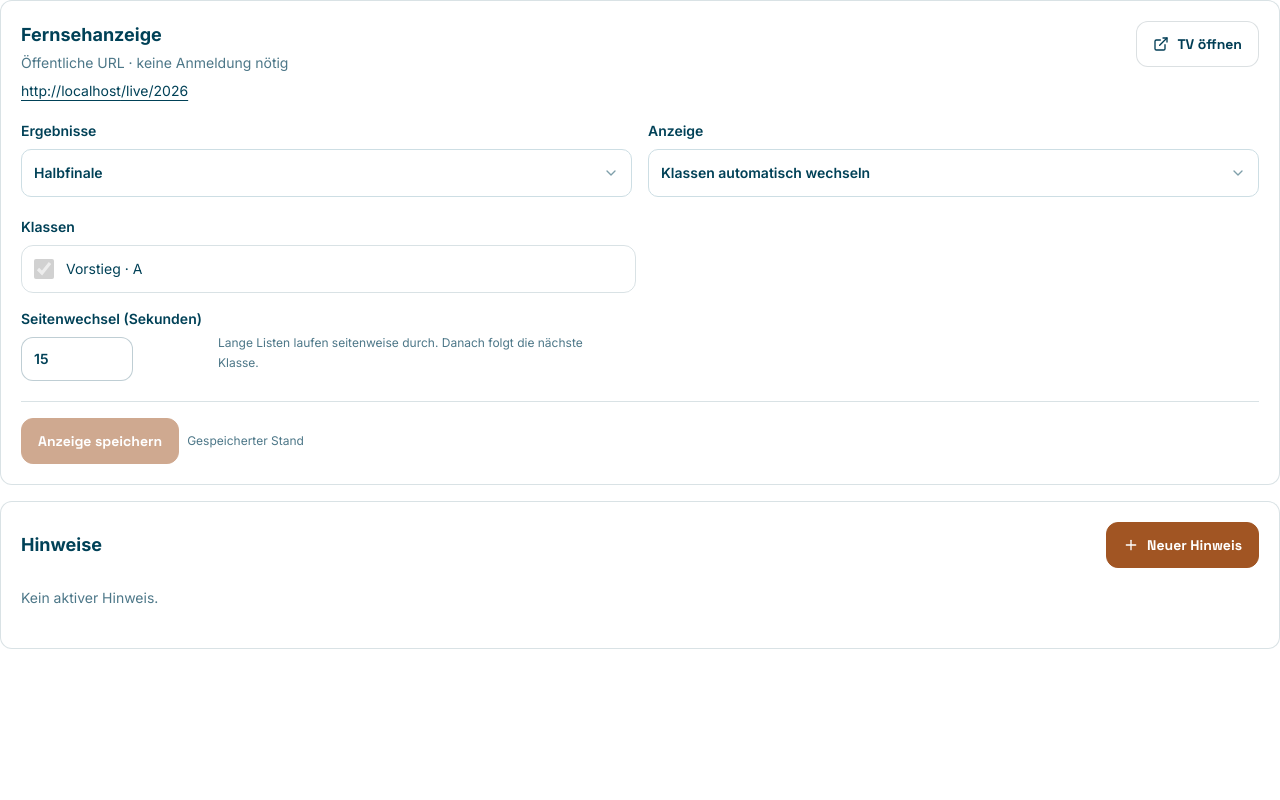
it: display and notices › uses a ten-minute expiry, removes fullscreen when TV is unticked and protects an unsaved notice
Later steps or results of the test are not shown.
Click the button "Neuer Hinweis" at {"x": 1183, "y": 545}, box [1106,522,1259,568]
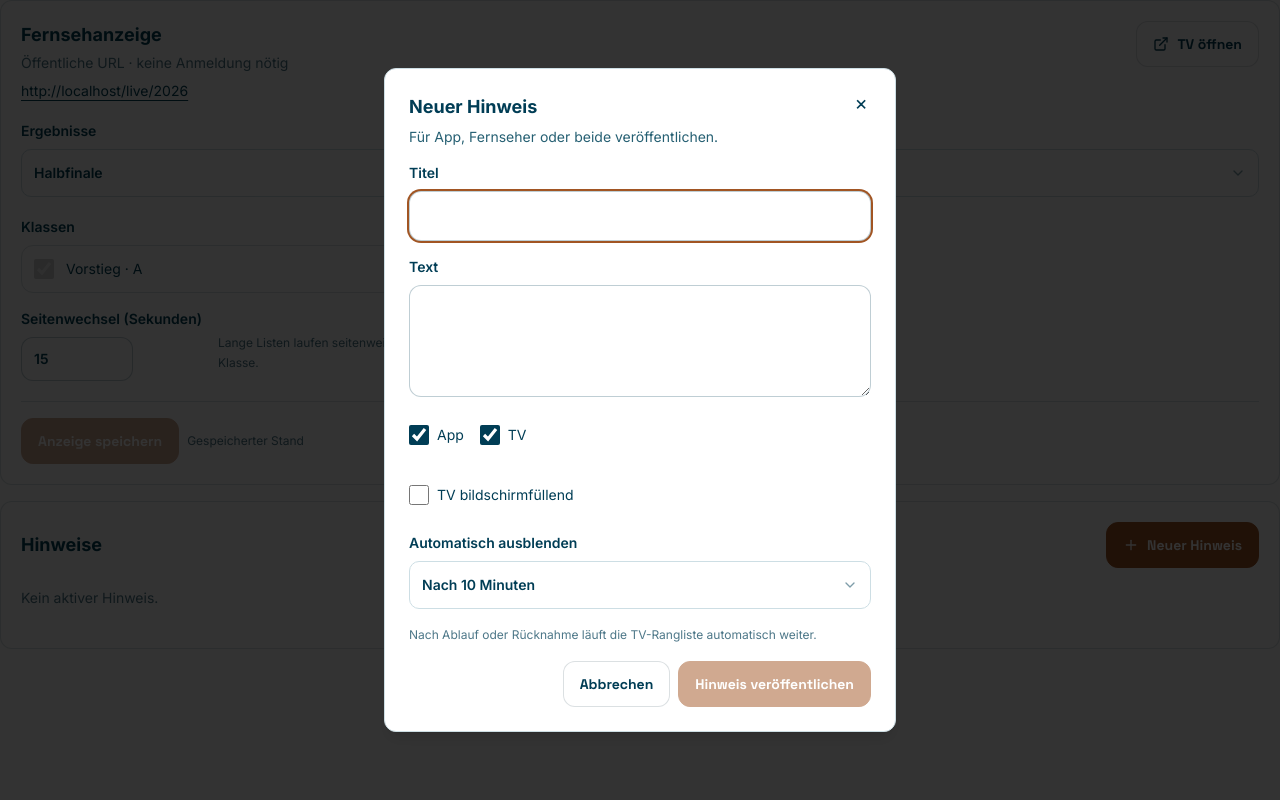
Type "Start verschoben" into the field labelled "Titel" at {"x": 640, "y": 216}, box [422,192,858,240]
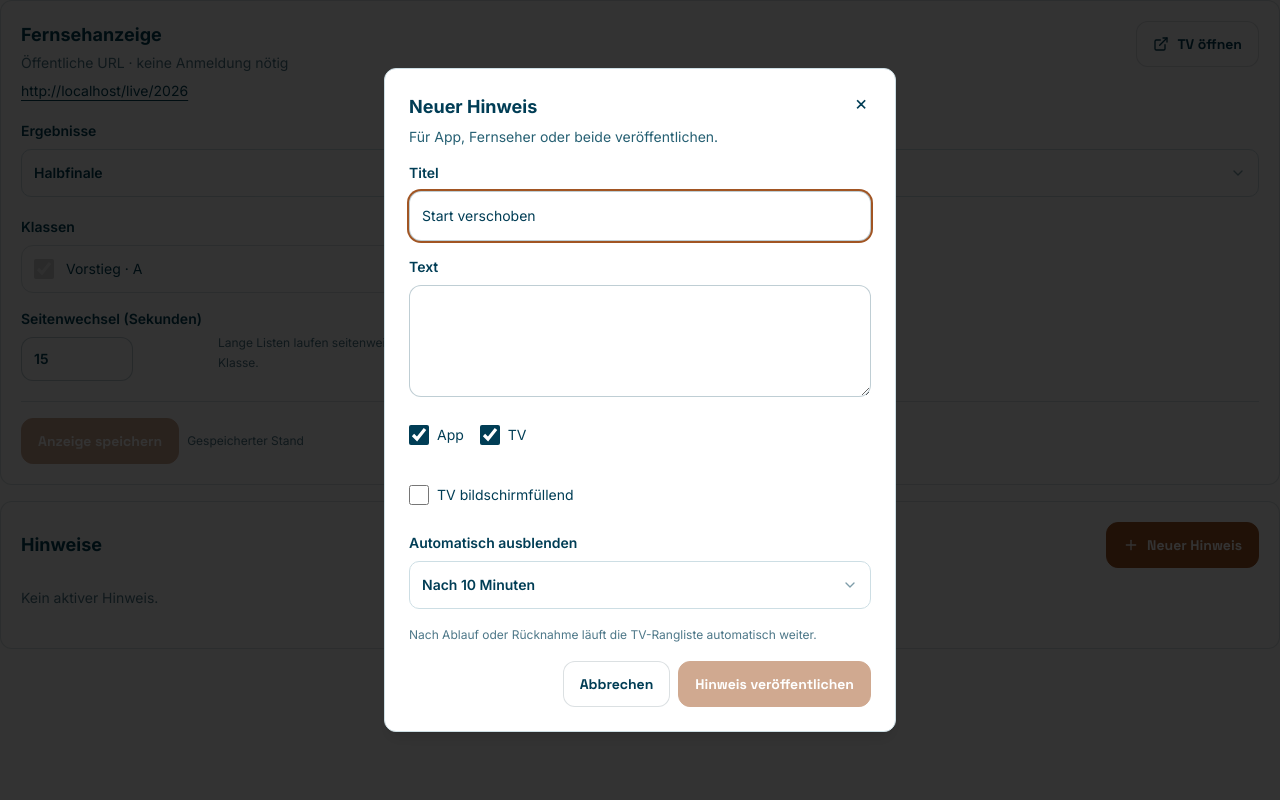
Type "Bitte am Start warten" into the text box labelled "Text" at {"x": 640, "y": 341}, box [409,285,871,397]
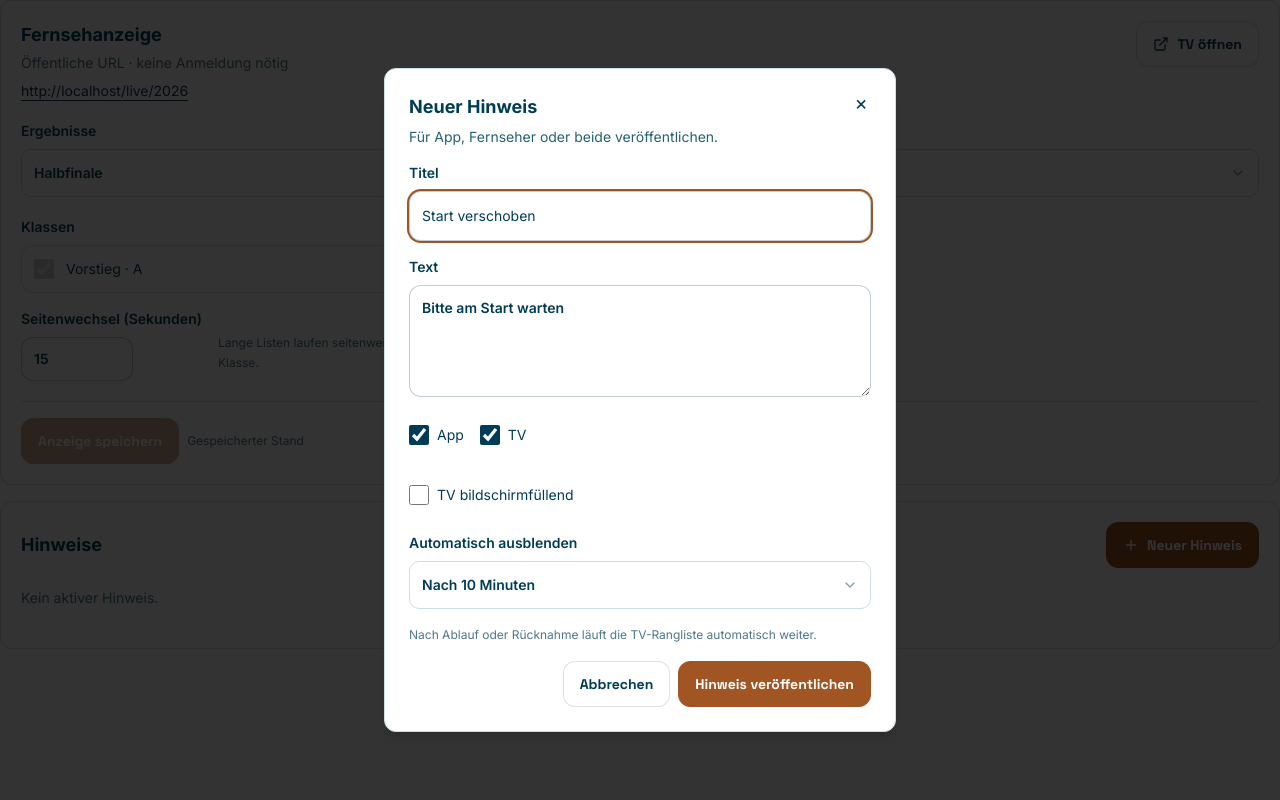
Click the checkbox labelled "TV bildschirmfüllend" at {"x": 419, "y": 495}, box [409,485,429,505]
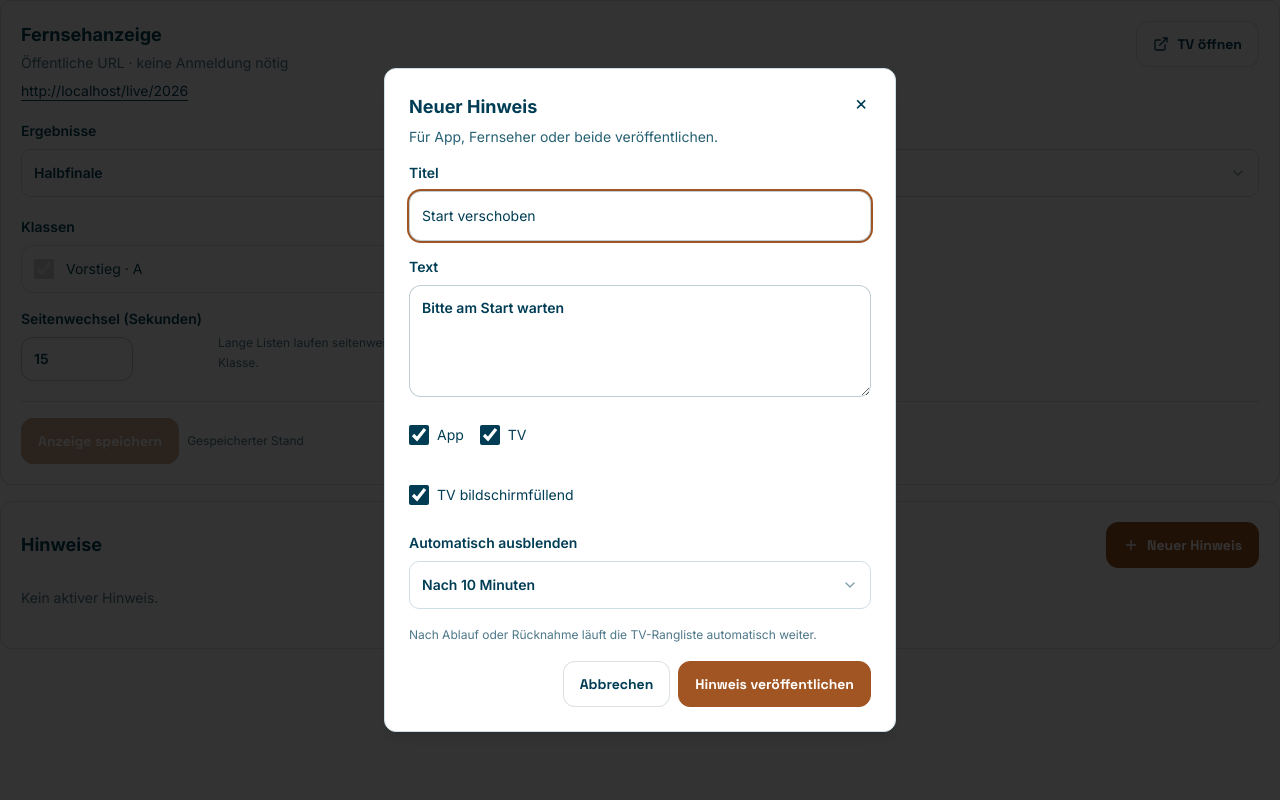
Click the checkbox labelled "TV" at {"x": 490, "y": 435}, box [480,425,500,445]
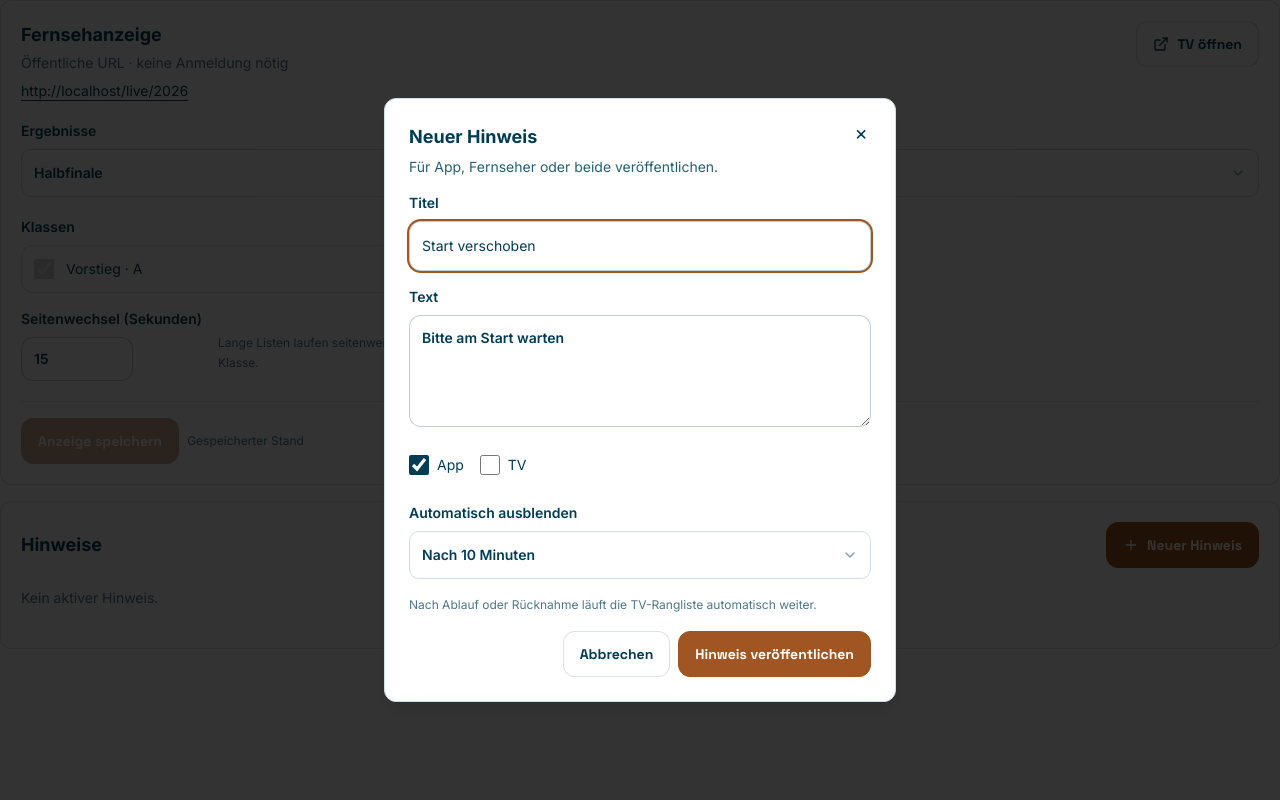
expect the label "TV bildschirmfüllend" is gone: met
Click the button "Abbrechen" at {"x": 616, "y": 654}, box [563,631,670,677]
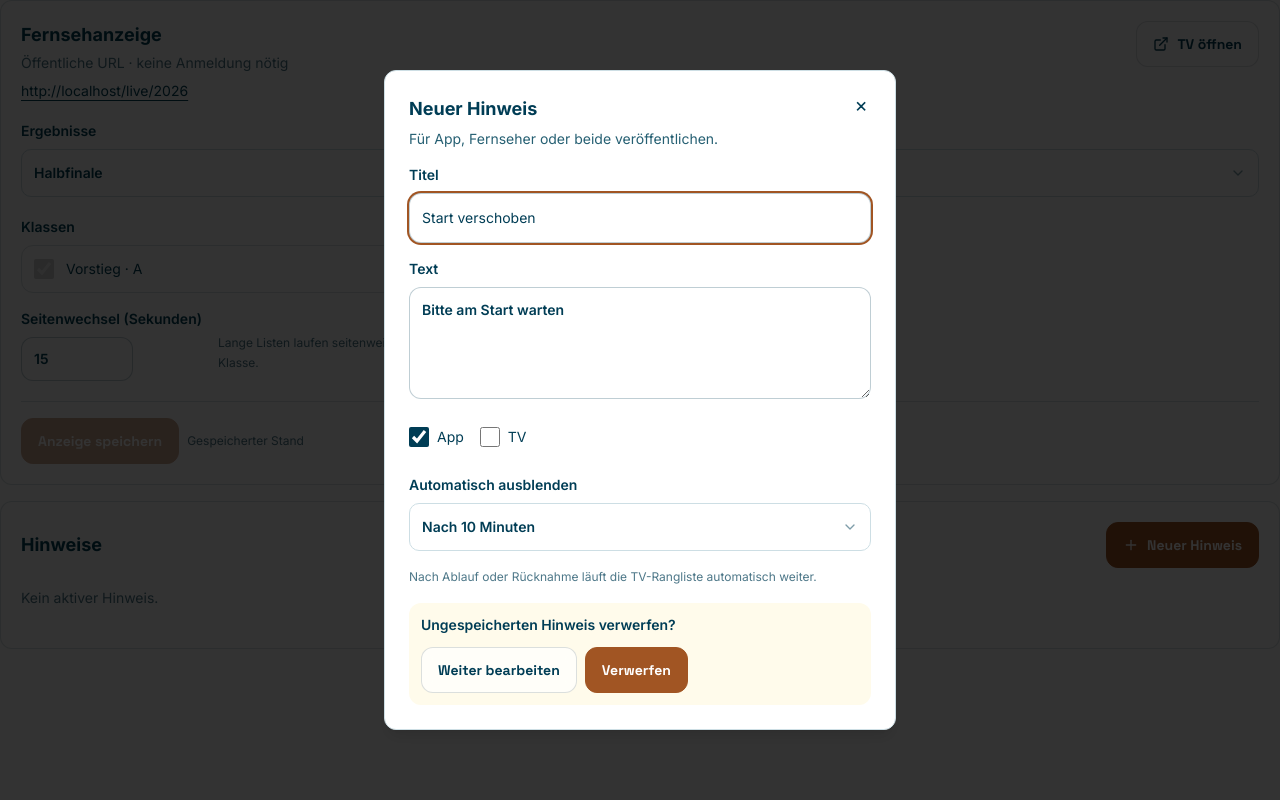
expect the text "Ungespeicherten Hinweis verwerfen?" is shown: met, box [421,616,676,633]
